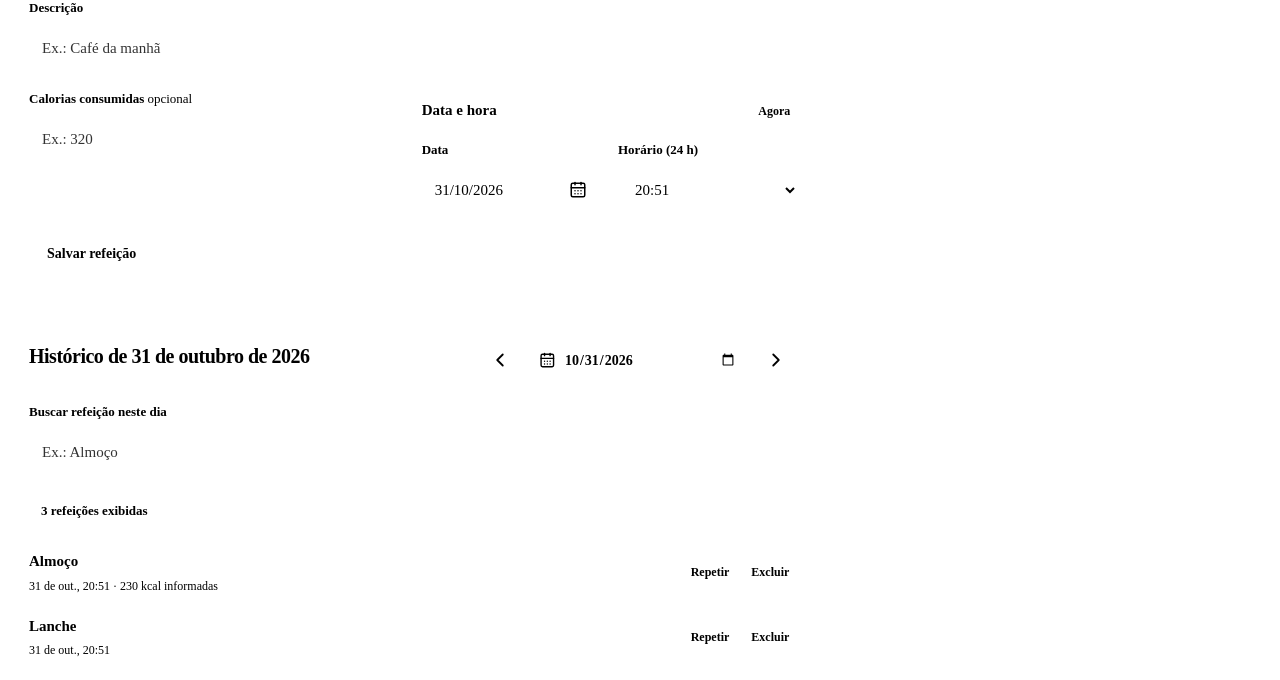
Test case: resumo experimental das refeições › soma apenas o dia selecionado e distingue zero de calorias ausentes
(page scrolled)
Type "2026-01-01" into the date field named "Data do histórico de refeições" at (650, 360), box [563,348,737,372]
(page scrolled)
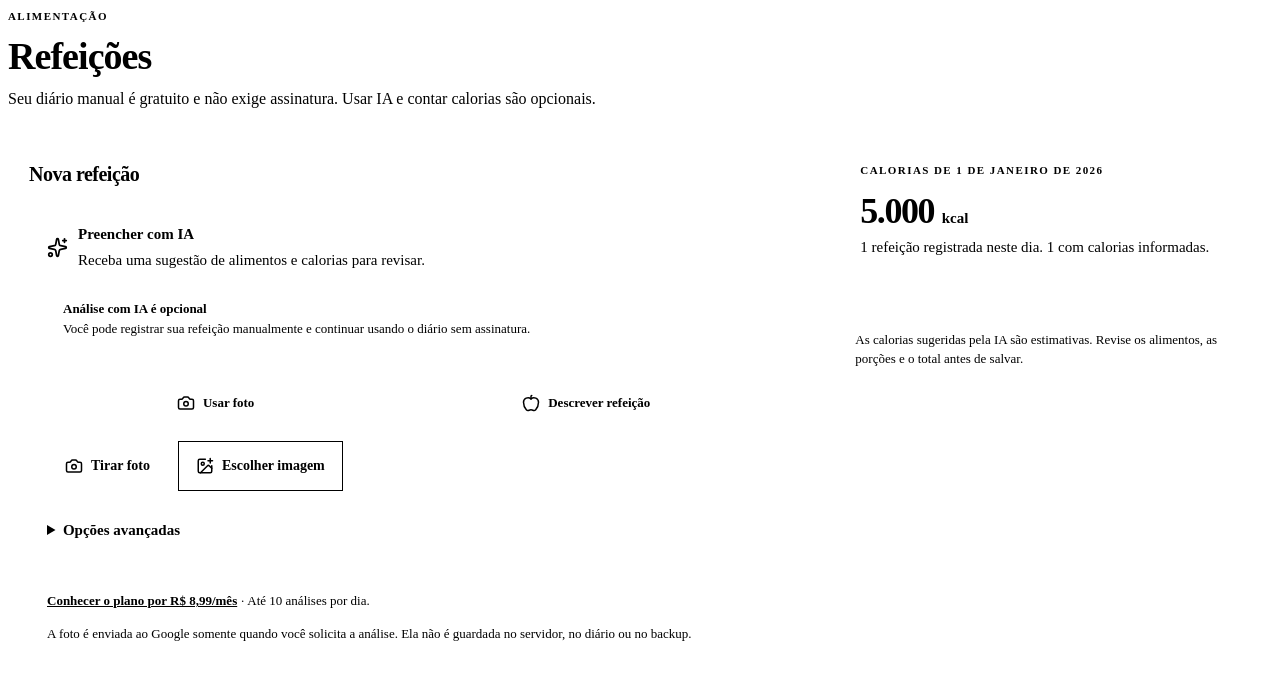
Result: the text "Calorias de 1 de janeiro de 2026" is shown at [860,164,1104,176]
Result: the text "Calorias de " shows "5.000 kcal" at [860,164,1209,255]
Result: the text "Calorias de " shows "1 refeição registrada neste dia. 1 com calorias informadas." at [860,239,1209,255]
